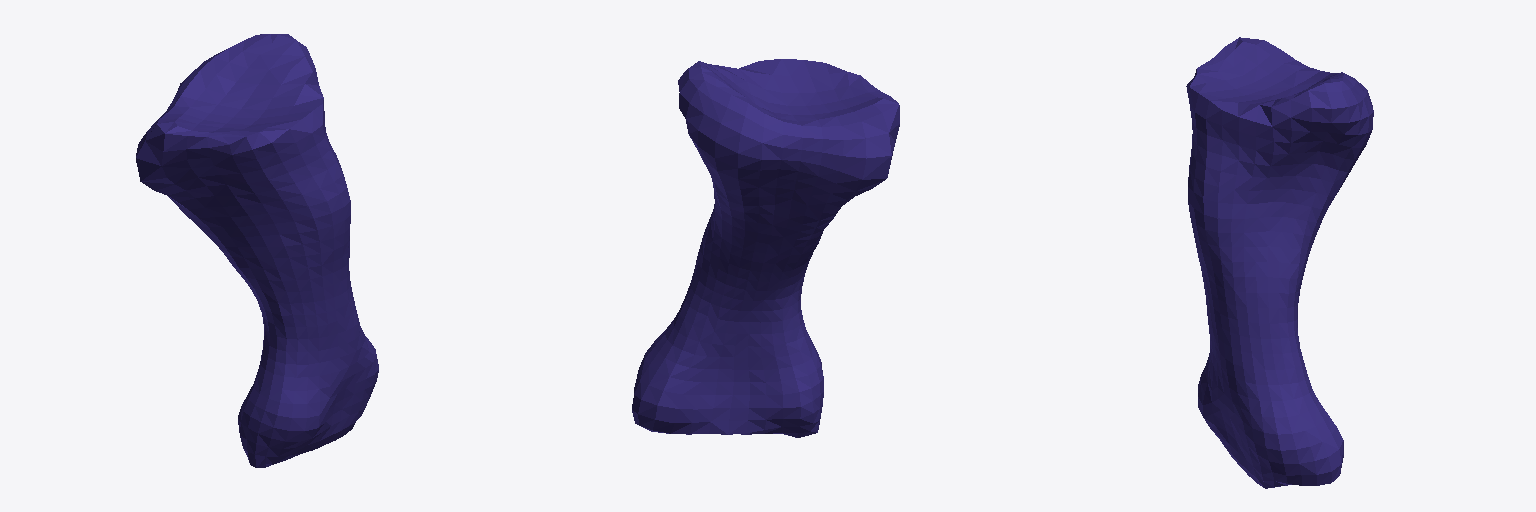
The model's file is ProximalPhalanx_5.obj.
3 renders of one model, left to right at view 1: azimuth 30°, elevation 25°; view 2: azimuth 150°, elevation 25°; view 3: azimuth 270°, elevation 25°, orthographic.
Visible parts, largest first — view 1: Object_0ProximalPhalanx_5; view 2: Object_0ProximalPhalanx_5; view 3: Object_0ProximalPhalanx_5.
Part boxes in pixels (left/top/right/bottom): Object_0ProximalPhalanx_5: left=136, top=34, right=378, bottom=467; Object_0ProximalPhalanx_5: left=632, top=59, right=899, bottom=437; Object_0ProximalPhalanx_5: left=1186, top=37, right=1373, bottom=488.
Size of the model in its own units: 16.31 by 24.8 by 10.85.